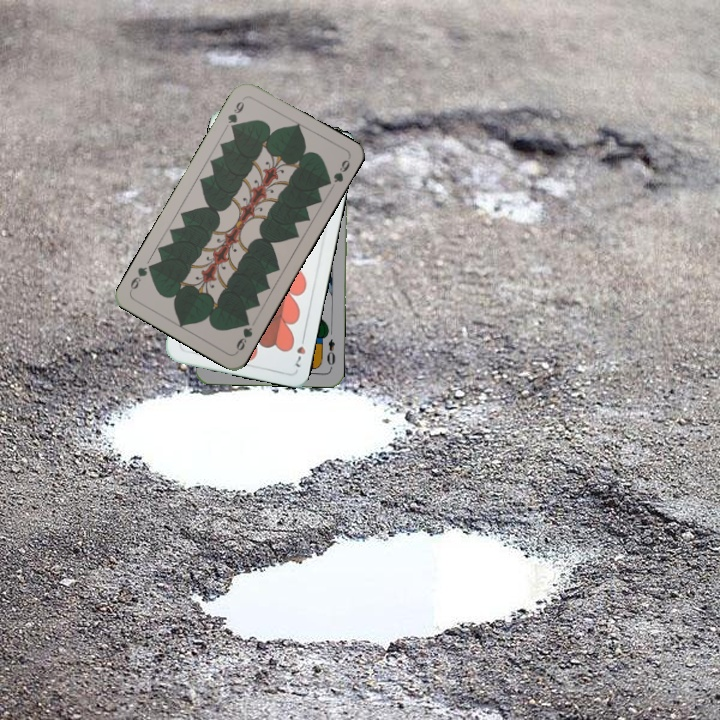EO: (323, 335, 338, 371)
G9: (232, 315, 255, 355), (223, 97, 247, 134)
H7: (291, 331, 308, 370)
